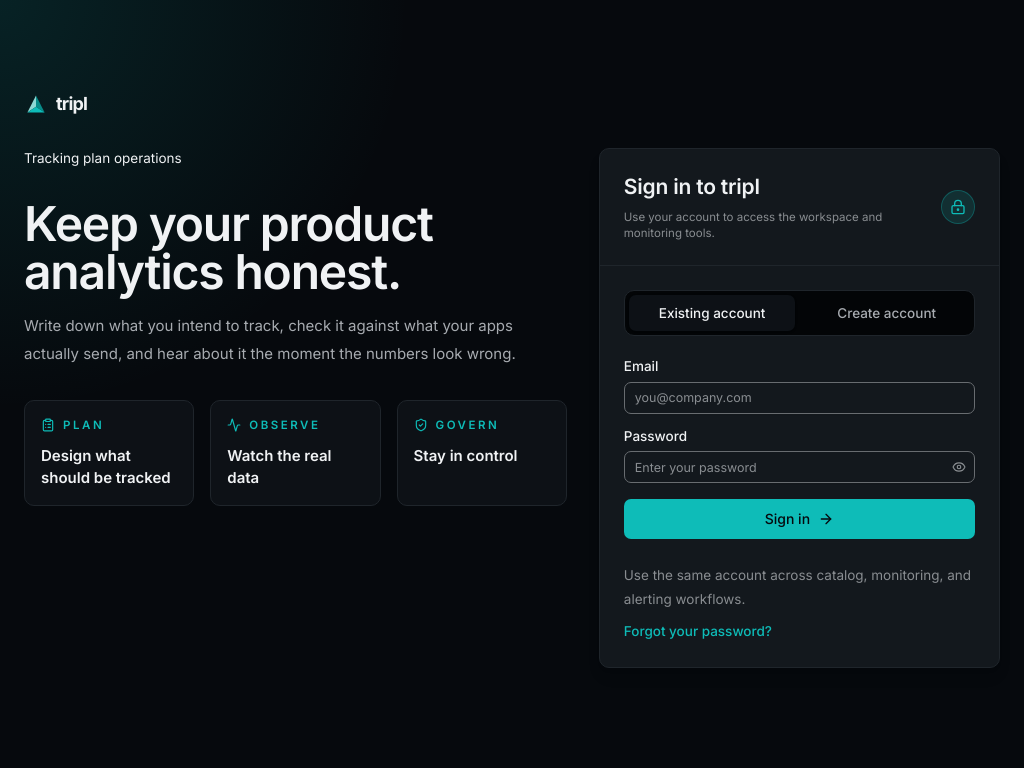
AuthPage › restores the sign-in copy when switching back to Existing account
What coordinates should you click on to do the following:
click the button "Create account"
I would click on:
 (887, 313)
Its box is 803,295 -> 970,331.
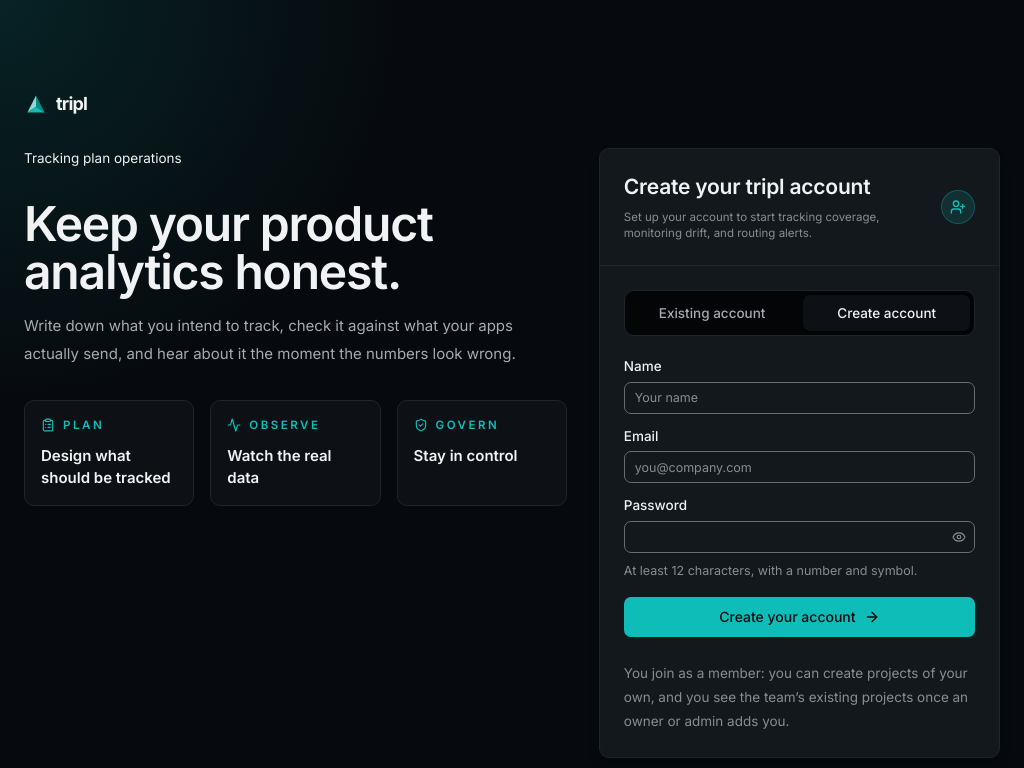
What coordinates should you click on to do the following:
click the button "Existing account"
I would click on:
 (712, 313)
Its box is 629,295 -> 795,331.
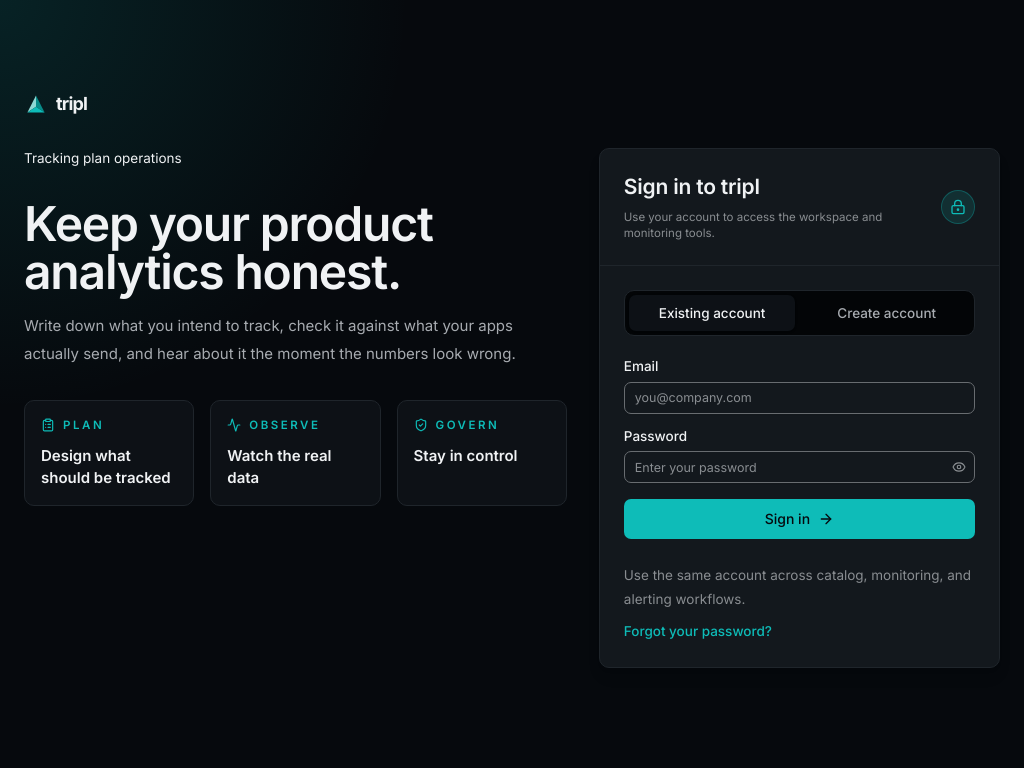
Result: the heading "Sign in to tripl" is shown at 624,174 -> 760,199
Result: the heading "Create your tripl account" is gone
